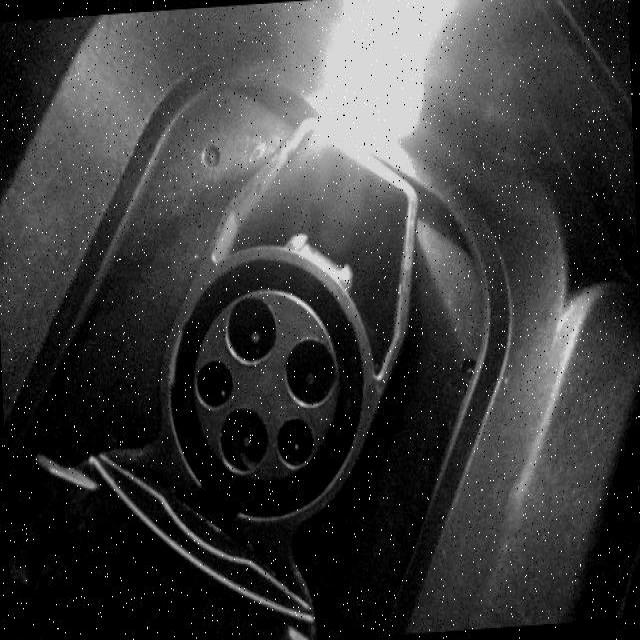Type 1: (172, 249, 352, 503)
